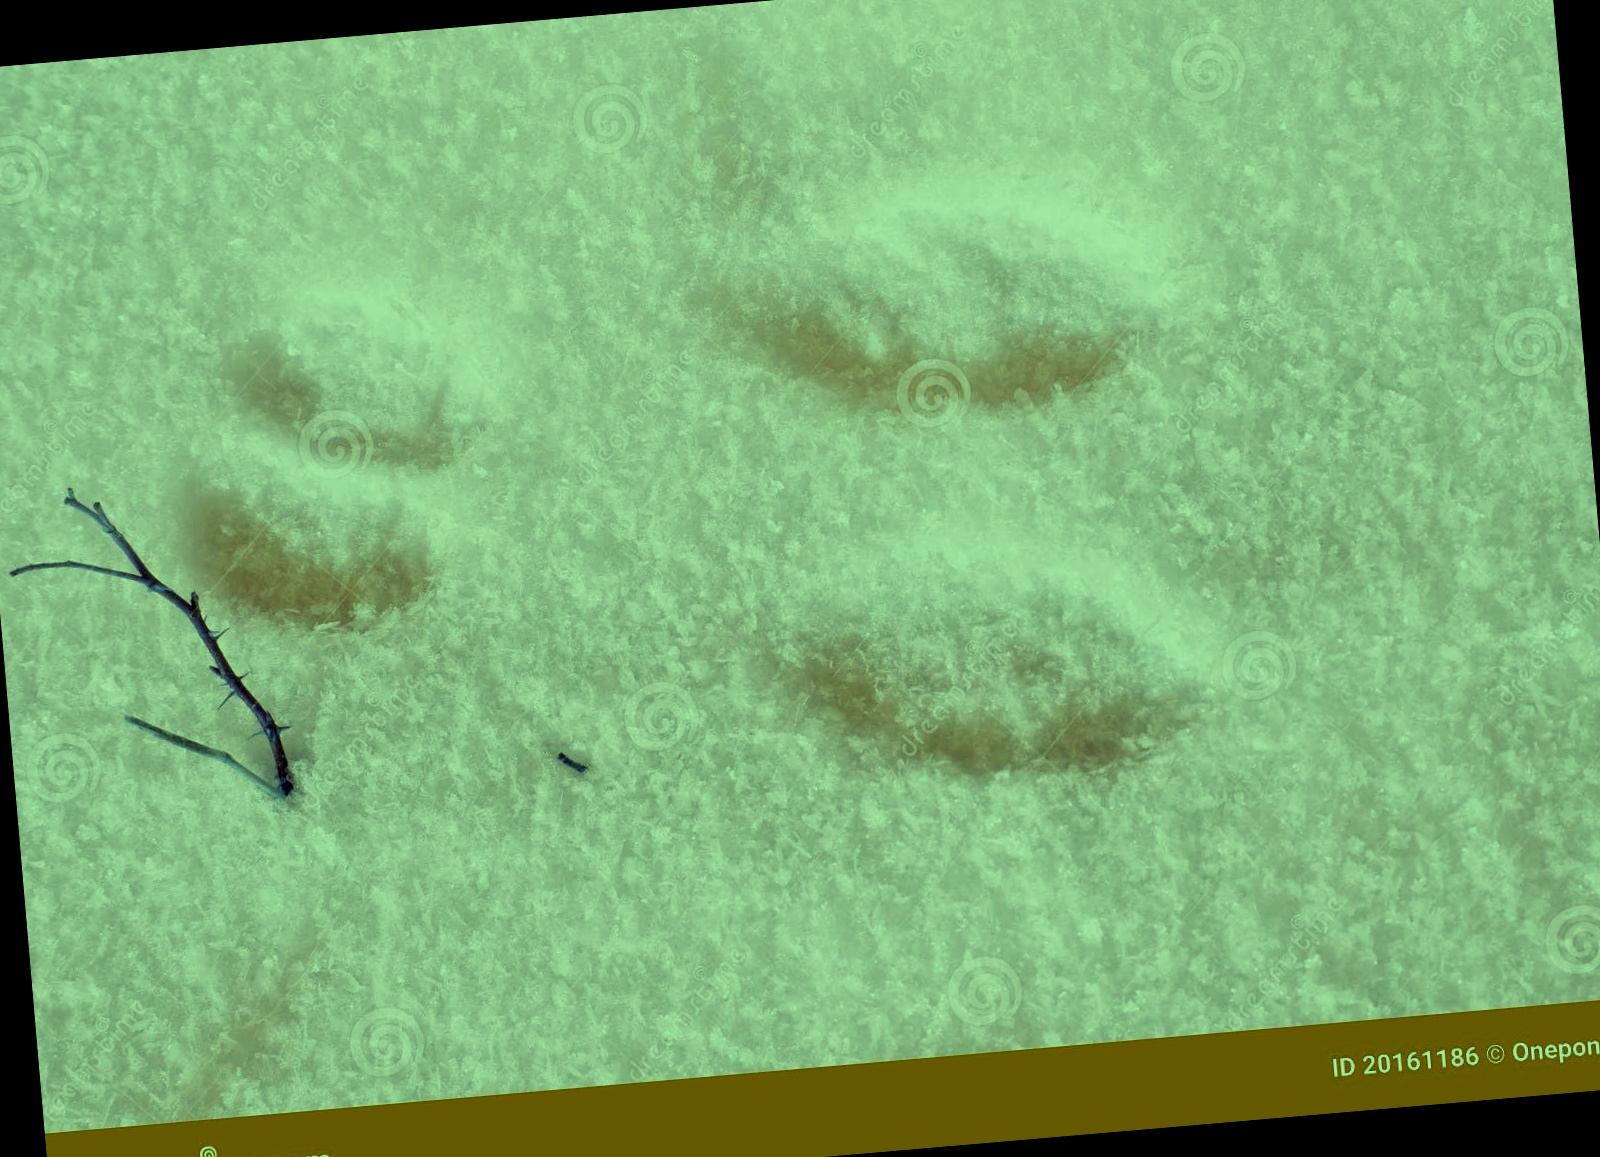lapin: (702, 553, 1268, 838), (702, 178, 1210, 437), (183, 236, 507, 613)
